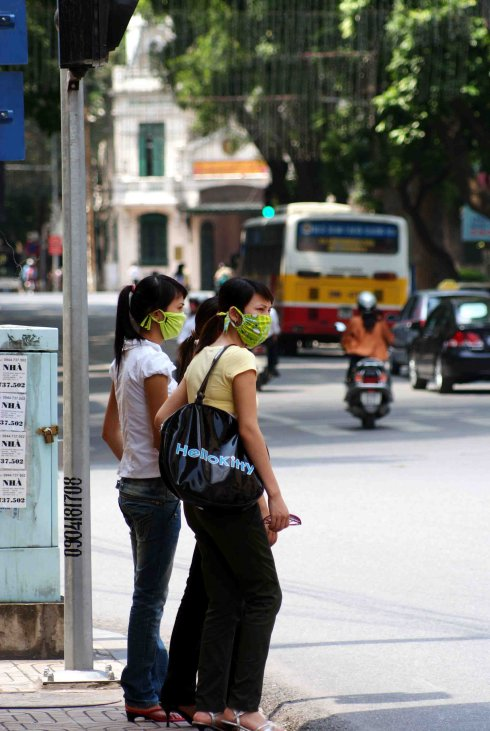face_mask: (241, 293, 269, 348), (161, 291, 185, 341)
